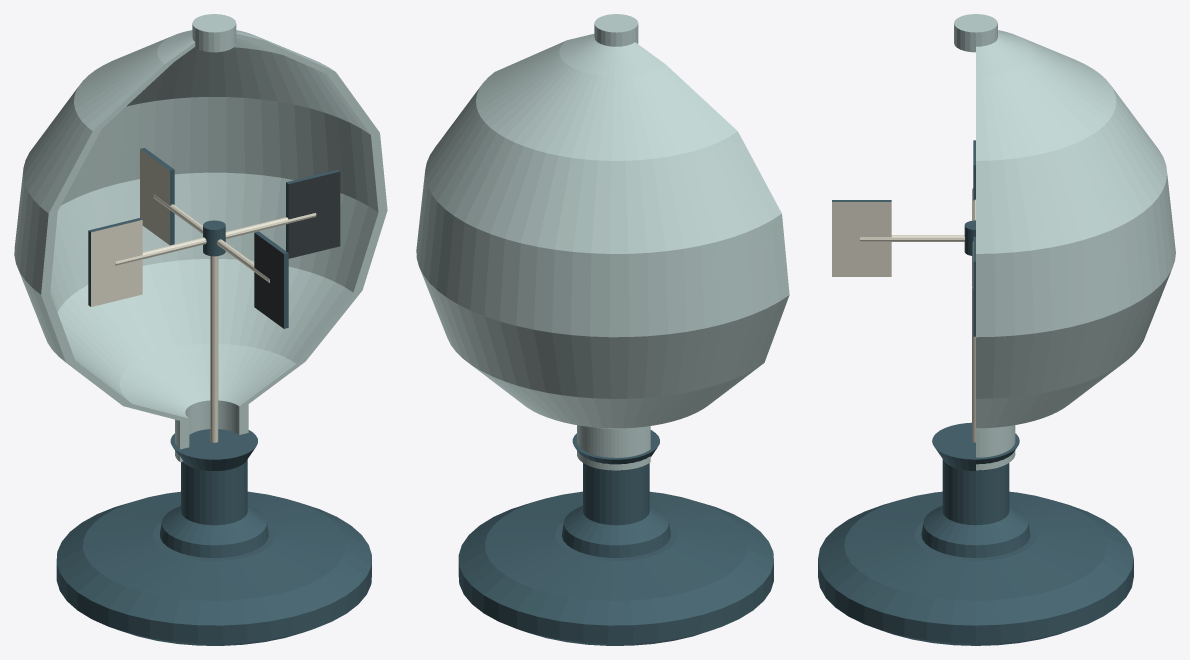
3 views of the same model, side by side, from view 1: azimuth 30°, elevation 25°; view 2: azimuth 150°, elevation 25°; view 3: azimuth 270°, elevation 25° (orthographic).
Visible parts, largest first — view 1: WholeThickCutawayRoundedBulb, WholeBroadRoundFoot, WholeNarrowPedestalNeck, WholeTwoFacedVane2, WholeTwoFacedVane0, WholeTwoFacedVane3, WholeTwoFacedVane1, WholeCentralNeedleSupport, WholeTopClosedCap, WholeIndependentRotorHub, WholeRadialArm2, WholeRadialArm0; view 2: WholeThickCutawayRoundedBulb, WholeBroadRoundFoot, WholeNarrowPedestalNeck, WholeTopClosedCap; view 3: WholeThickCutawayRoundedBulb, WholeBroadRoundFoot, WholeNarrowPedestalNeck, WholeTwoFacedVane3, WholeTopClosedCap, WholeRadialArm3, WholeCentralNeedleSupport.
Part boxes in pixels (<box>): WholeThickCutawayRoundedBulb: <box>14,30,387,462</box>; WholeBroadRoundFoot: <box>56,491,371,645</box>; WholeNarrowPedestalNeck: <box>160,429,268,557</box>; WholeTwoFacedVane2: <box>88,218,142,306</box>; WholeTwoFacedVane0: <box>286,169,340,258</box>; WholeTwoFacedVane3: <box>254,231,288,328</box>; WholeTwoFacedVane1: <box>140,148,174,245</box>; WholeCentralNeedleSupport: <box>210,256,218,442</box>; WholeTopClosedCap: <box>192,14,236,52</box>; WholeIndependentRotorHub: <box>203,220,225,256</box>; WholeRadialArm2: <box>115,237,206,265</box>; WholeRadialArm0: <box>225,213,316,238</box>; WholeThickCutawayRoundedBulb: <box>416,34,789,470</box>; WholeBroadRoundFoot: <box>458,491,773,645</box>; WholeNarrowPedestalNeck: <box>562,430,670,557</box>; WholeTopClosedCap: <box>594,14,638,46</box>; WholeThickCutawayRoundedBulb: <box>976,30,1175,470</box>; WholeBroadRoundFoot: <box>818,491,1133,645</box>; WholeNarrowPedestalNeck: <box>921,422,1030,557</box>; WholeTwoFacedVane3: <box>832,200,891,276</box>; WholeTopClosedCap: <box>954,14,997,52</box>; WholeRadialArm3: <box>860,235,964,241</box>; WholeCentralNeedleSupport: <box>972,256,975,442</box>.
Bounding box in the file's own units: 0.456 × 0.7085 × 0.408.
